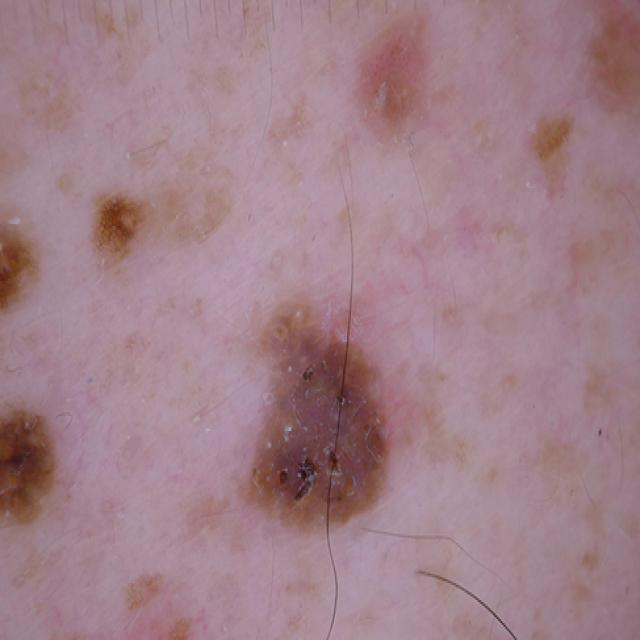Keratosis: (234, 282, 431, 582), (0, 397, 95, 554), (94, 173, 167, 280), (0, 222, 72, 307)
